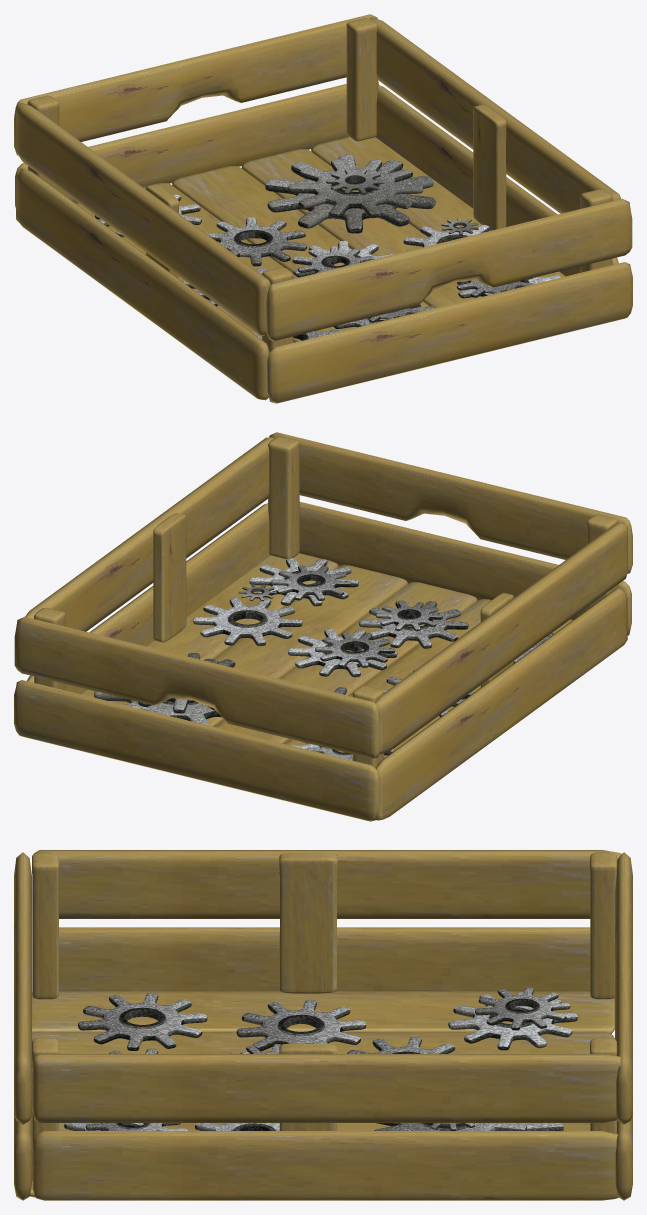
Rendered from FilledCrate2.fbx.
The picture shows the model from 3 angles, top to bottom: view 1: azimuth 30°, elevation 25°; view 2: azimuth 150°, elevation 25°; view 3: azimuth 270°, elevation 25°; orthographic projection. The views are drawn at different scales.
Parts seen in each view (by area): view 1: Crateofbolts; view 2: Crateofbolts; view 3: Crateofbolts.
Part boxes in pixels (x1,y1,x2,y2): Crateofbolts: [14, 14, 632, 403]; Crateofbolts: [14, 432, 632, 821]; Crateofbolts: [14, 850, 632, 1200].
Bounding box in the file's own units: 3.02 × 0.9607 × 3.7.
2 materials, 2 textured.
